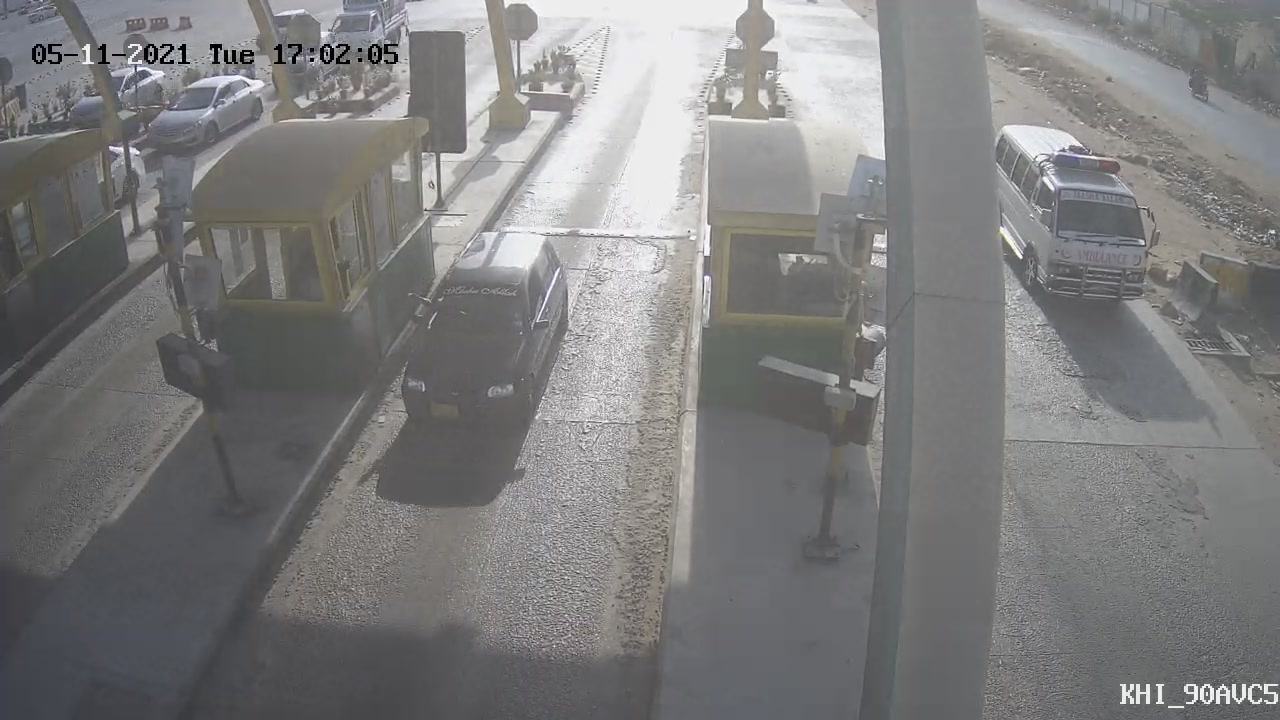F1: (376, 211, 592, 455)
